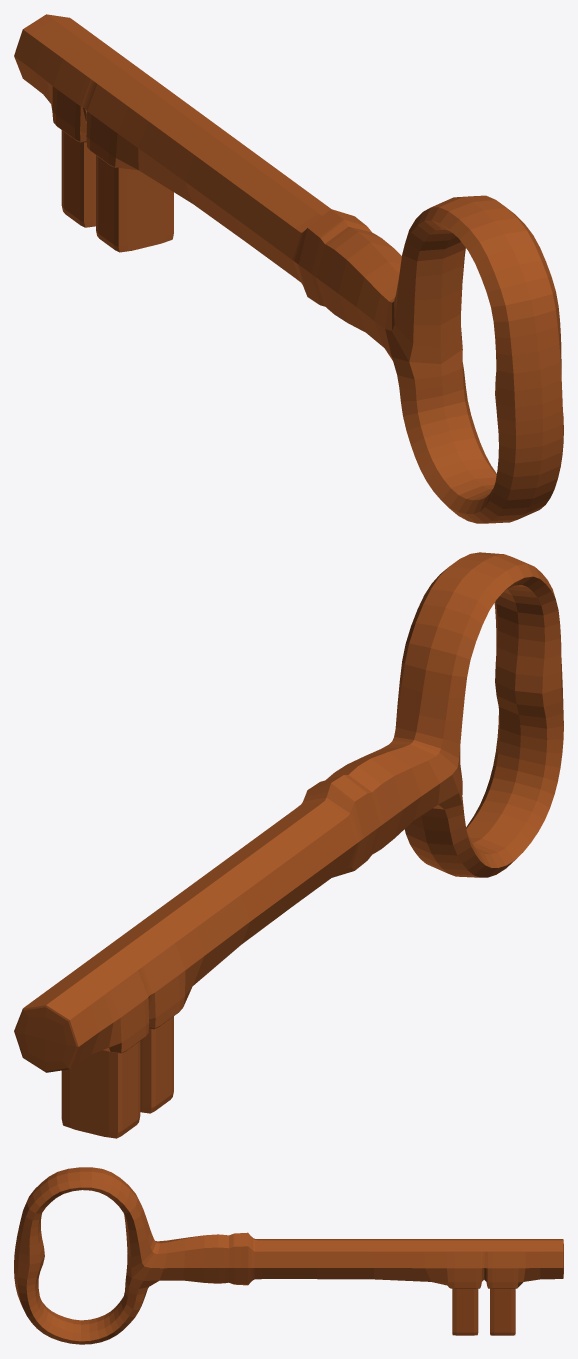
File: key.glb
The picture shows the model from 3 angles, top to bottom: view 1: azimuth 30°, elevation 25°; view 2: azimuth 150°, elevation 25°; view 3: azimuth 270°, elevation 25°; orthographic projection. The views are drawn at different scales.
Parts seen in each view (by area): view 1: Cube; view 2: Cube; view 3: Cube.
Boxes of the visible parts, box(x1,y1,x2,y2) form: Cube: box(14, 14, 563, 523); Cube: box(14, 552, 563, 1138); Cube: box(14, 1167, 563, 1344).
Size of the model in its own units: 2.43 by 9.97 by 29.47.
